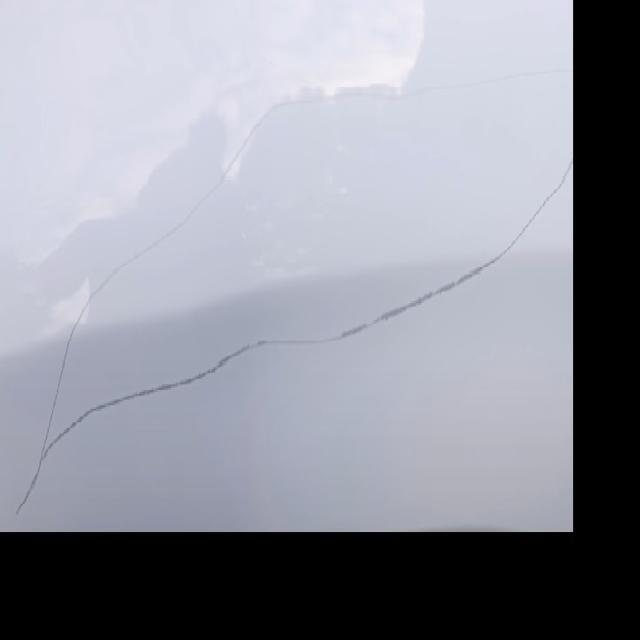crack: (59, 249, 492, 484), (85, 75, 410, 348)
